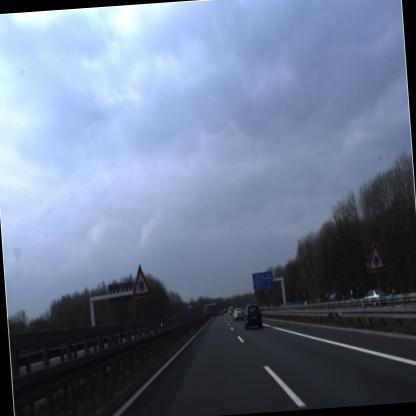danger: (126, 258, 153, 302), (362, 237, 390, 278)
